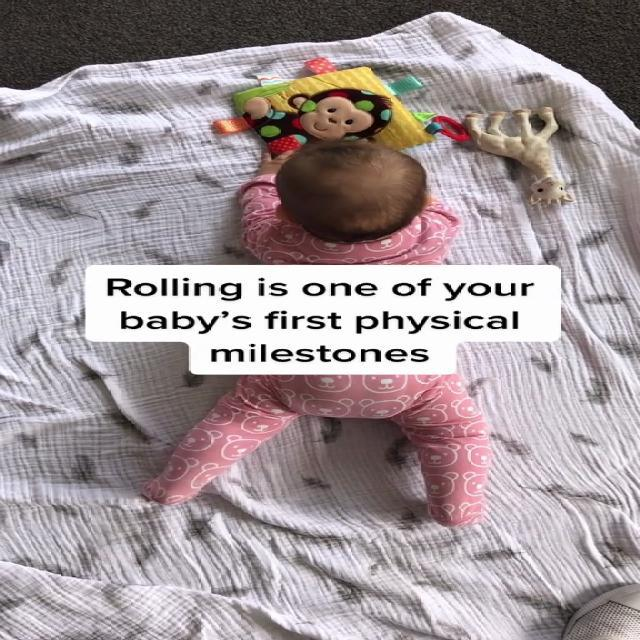baby: (137, 136, 506, 534)
